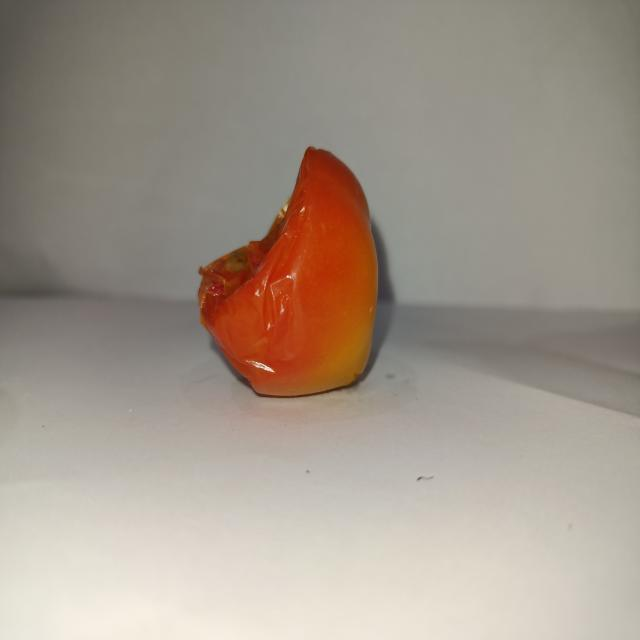Red: (196, 144, 380, 398)
